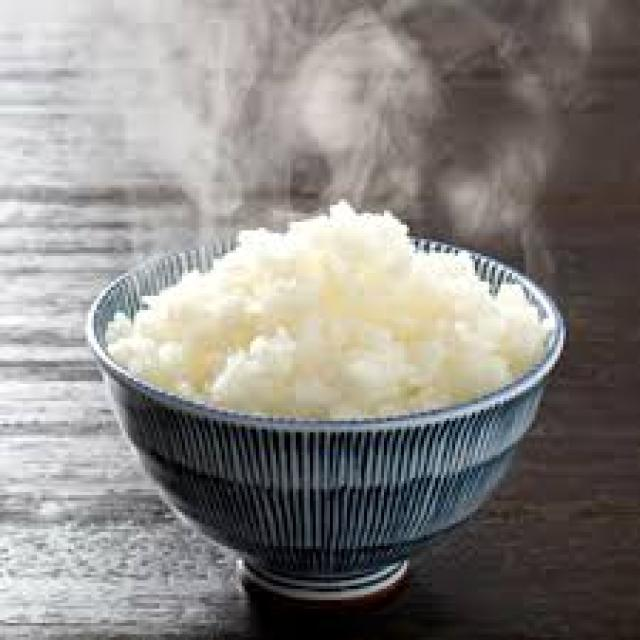nasi: (92, 200, 552, 432)
